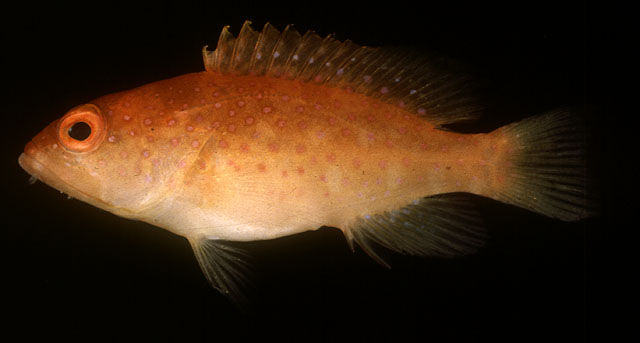fish: (18, 21, 585, 293)
